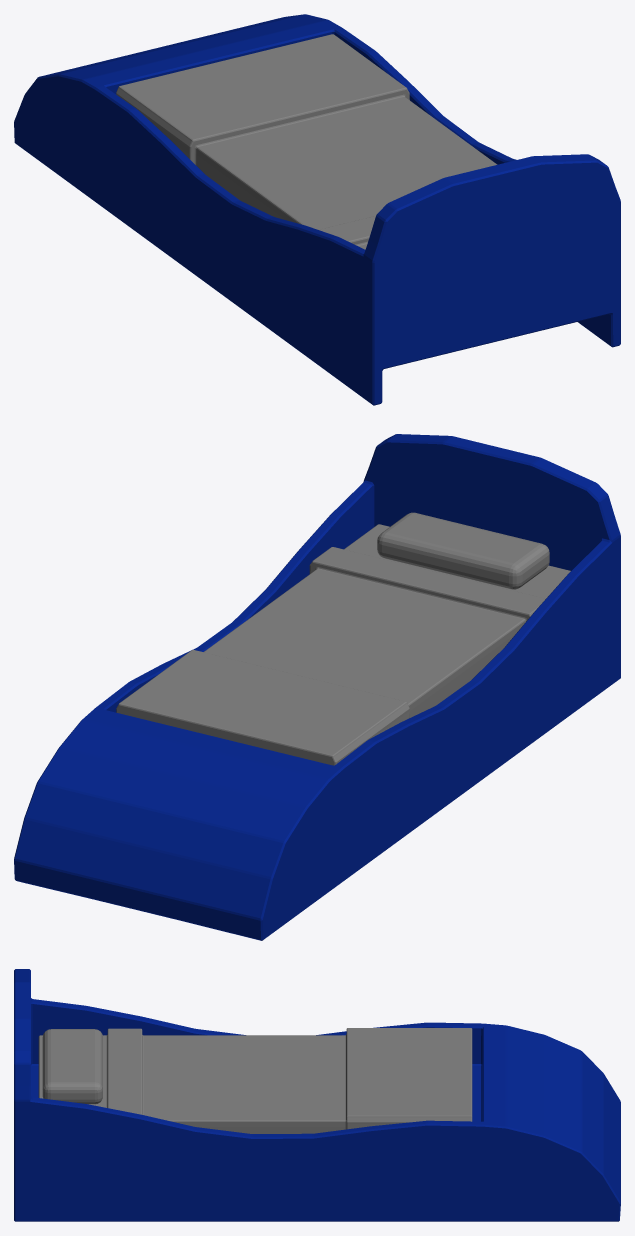
Rendered from BoyBedroom_Bed_UnrealReady_01.fbx.
3 views of the same model, one above another, from view 1: azimuth 30°, elevation 25°; view 2: azimuth 150°, elevation 25°; view 3: azimuth 270°, elevation 25° (orthographic). The views are drawn at different scales.
Visible parts, largest first — view 1: BoyBedroom_Bed, BoyBedroom_Bed_Matress; view 2: BoyBedroom_Bed, BoyBedroom_Bed_Matress, BoyBedroom_Bed_Pillow; view 3: BoyBedroom_Bed, BoyBedroom_Bed_Matress, BoyBedroom_Bed_Pillow.
Boxes of the visible parts, x1=… form: BoyBedroom_Bed: x1=14, y1=14, x2=620, y2=405; BoyBedroom_Bed_Matress: x1=116, y1=34, x2=497, y2=249; BoyBedroom_Bed: x1=14, y1=434, x2=620, y2=940; BoyBedroom_Bed_Matress: x1=116, y1=524, x2=570, y2=765; BoyBedroom_Bed_Pillow: x1=377, y1=512, x2=549, y2=589; BoyBedroom_Bed: x1=14, y1=969, x2=620, y2=1221; BoyBedroom_Bed_Matress: x1=38, y1=1028, x2=472, y2=1133; BoyBedroom_Bed_Pillow: x1=42, y1=1029, x2=102, y2=1104.
Size of what is drawn, in the model's own units: 125 by 314 by 97.57.
